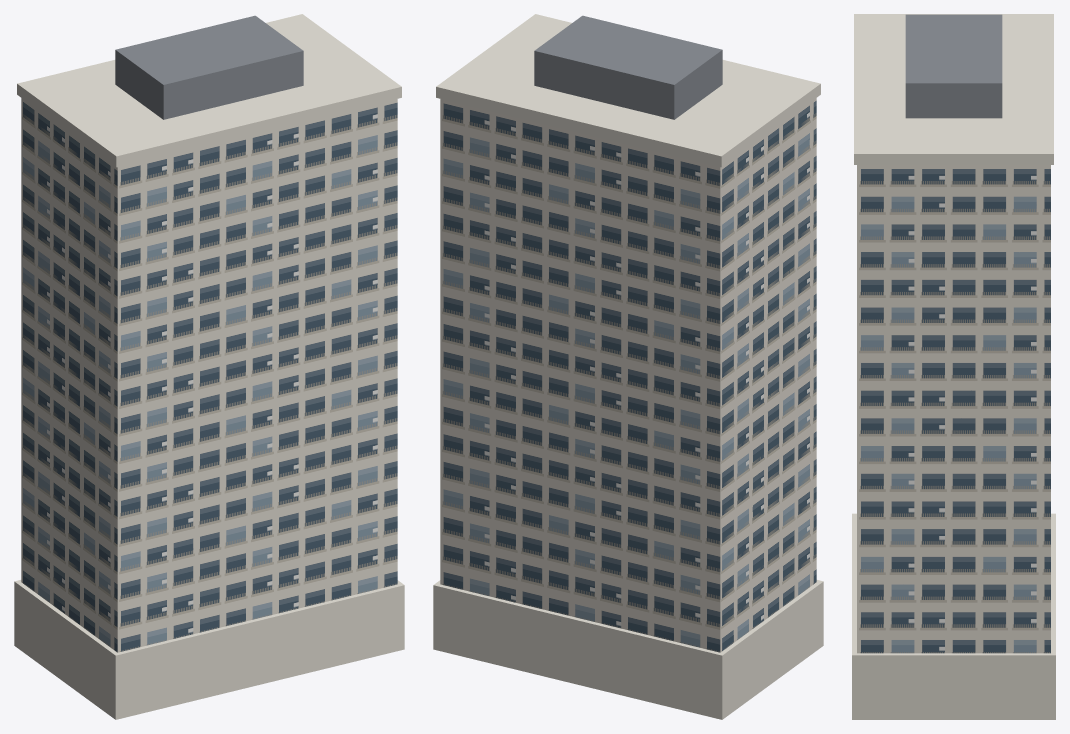
The model's file is day_tower_a.glb.
3 renders of one model, left to right at view 1: azimuth 30°, elevation 25°; view 2: azimuth 150°, elevation 25°; view 3: azimuth 270°, elevation 25°, orthographic.
Parts seen in each view (by area): view 1: daytower; view 2: daytower; view 3: daytower.
Boxes of the visible parts, left/top/right/bottom form: daytower: left=14, top=14, right=404, bottom=719; daytower: left=433, top=14, right=823, bottom=719; daytower: left=852, top=14, right=1055, bottom=719.
Bounding box in the file's own units: 32.91 × 65 × 20.01.
Materials: 3 (1 with a texture image).
